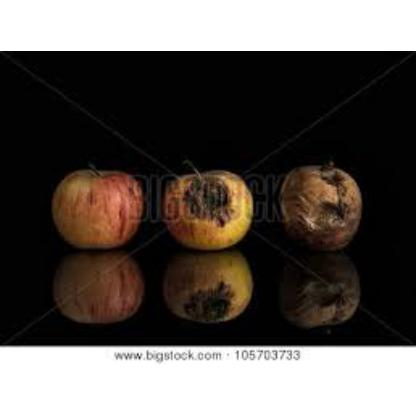damaged_apple: (162, 166, 254, 250), (50, 168, 142, 242), (162, 253, 256, 323), (50, 250, 142, 320), (279, 163, 359, 243), (278, 250, 362, 326)
